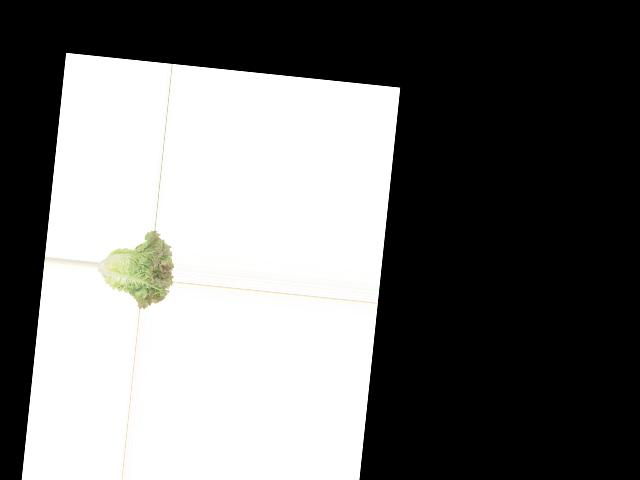lettuce: (93, 225, 177, 311)
